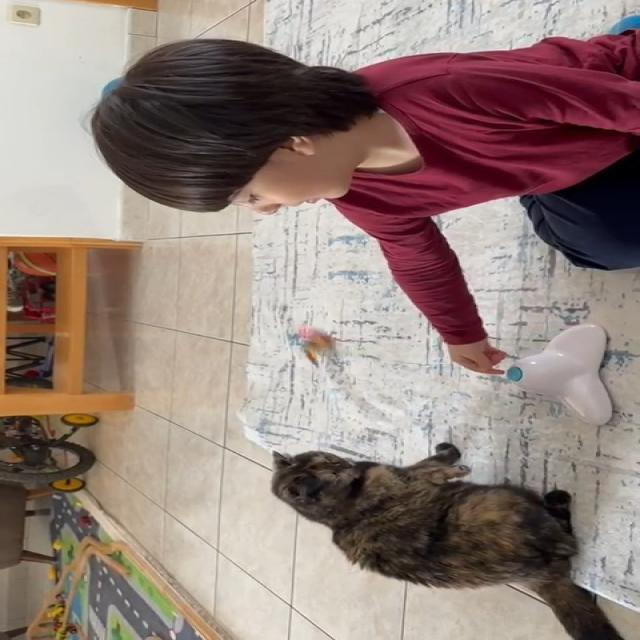authorized: (268, 442, 625, 639)
